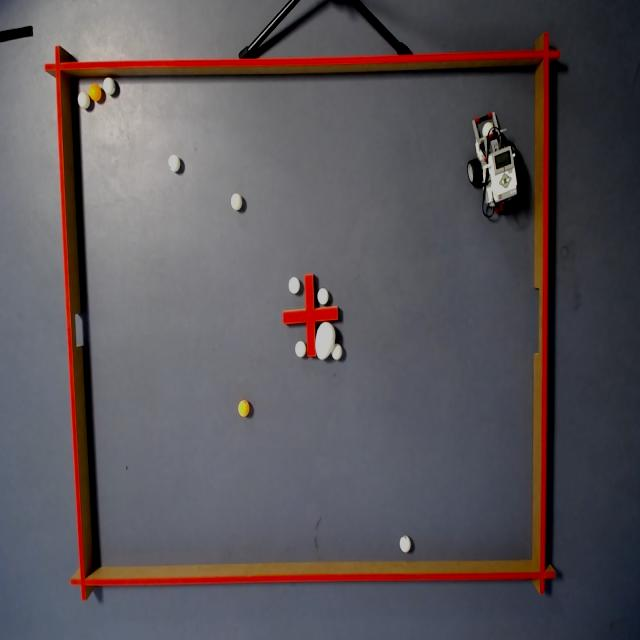boundaries: (44, 43, 98, 608), (42, 28, 564, 82), (70, 553, 558, 602), (529, 26, 563, 596)
cross: (282, 274, 340, 359)
egg: (312, 322, 336, 362)
large_goal: (524, 268, 560, 381)
orange_ball: (87, 80, 103, 104), (236, 398, 252, 419)
robot: (467, 114, 521, 220)
small_goal: (59, 295, 96, 368)
white_ball: (396, 531, 415, 555), (76, 89, 92, 113), (167, 150, 183, 174), (230, 190, 245, 215), (102, 76, 117, 97), (318, 284, 330, 308), (287, 275, 300, 297), (482, 116, 495, 138), (331, 343, 343, 363), (294, 340, 306, 360)
